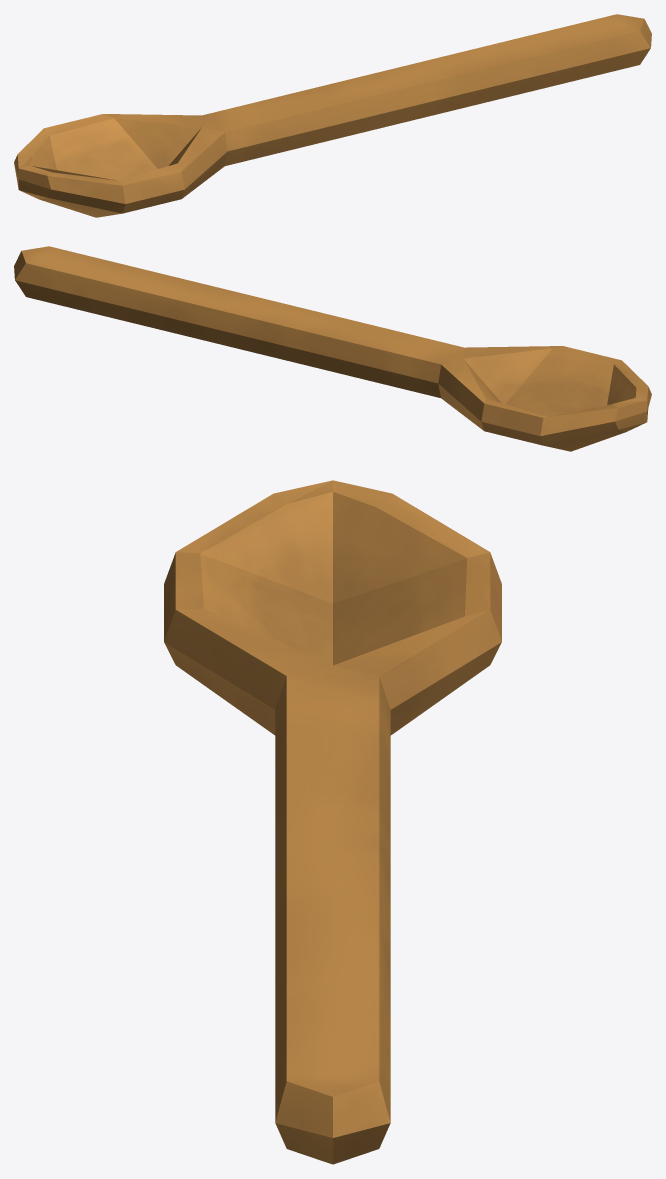
Rendered from SpoonBig.fbx.
3 renders of one model, top to bottom at view 1: azimuth 30°, elevation 25°; view 2: azimuth 150°, elevation 25°; view 3: azimuth 270°, elevation 25°, orthographic. The views are drawn at different scales.
Visible parts, largest first — view 1: SpoonBig; view 2: SpoonBig; view 3: SpoonBig.
Part boxes in pixels (<box>): SpoonBig: <box>14,14,651,217</box>; SpoonBig: <box>14,246,651,451</box>; SpoonBig: <box>164,480,501,1164</box>.
Bounding box in the file's own units: 288 × 23.51 × 66.55.
